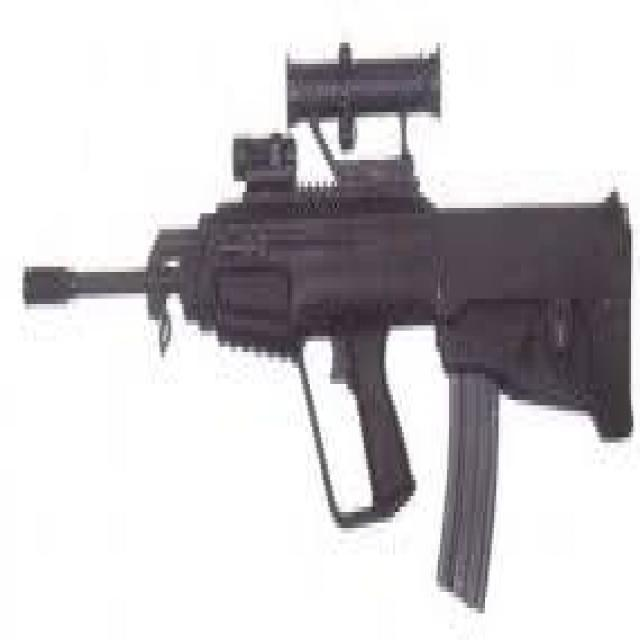weapon: (20, 47, 638, 618)
